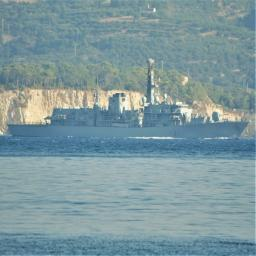Fragata: (3, 57, 252, 142)
